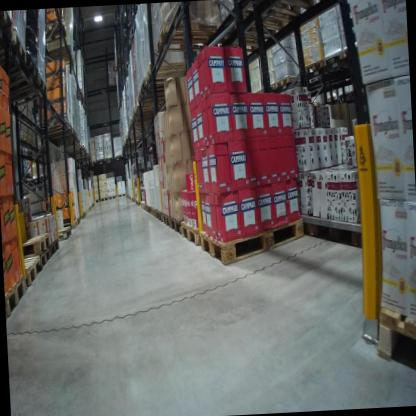pallet: (199, 203, 310, 265), (372, 297, 416, 379), (236, 0, 332, 30), (152, 18, 219, 55), (2, 71, 50, 108), (0, 55, 43, 94), (0, 33, 31, 76), (144, 59, 197, 83), (16, 229, 52, 262), (4, 272, 28, 321), (15, 252, 43, 286), (36, 117, 73, 142), (39, 17, 69, 41), (297, 57, 325, 79), (181, 219, 200, 251), (137, 73, 169, 92), (134, 98, 173, 113), (136, 88, 169, 102), (317, 50, 343, 67), (274, 72, 298, 90), (54, 224, 73, 246), (35, 248, 51, 271), (56, 127, 76, 142), (12, 129, 29, 146), (170, 214, 183, 236), (155, 206, 163, 228), (163, 211, 172, 228), (50, 241, 60, 255), (76, 86, 85, 100), (69, 219, 78, 230), (73, 215, 82, 226), (146, 203, 152, 217), (107, 193, 117, 201), (27, 135, 34, 146), (99, 195, 109, 202), (114, 152, 124, 159), (151, 205, 156, 218), (103, 155, 113, 161), (142, 201, 147, 212), (95, 156, 104, 162), (117, 192, 125, 198)
